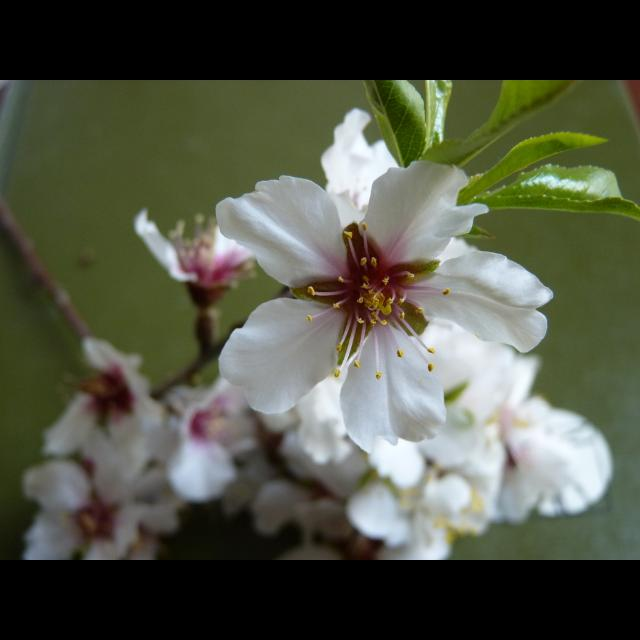Flower: (266, 239, 612, 559), (212, 164, 490, 422), (24, 336, 254, 560), (322, 106, 401, 228), (134, 212, 253, 292)
